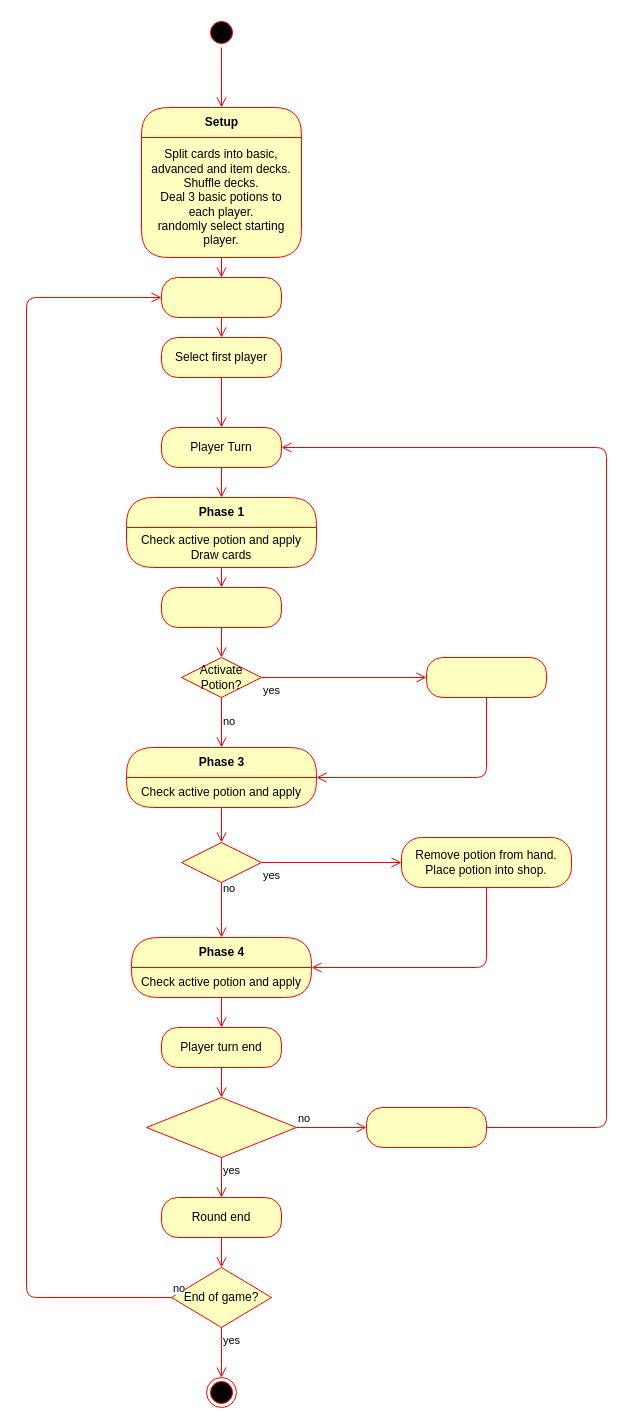
Some shapes in this 634 by 1425 pixel diagram are drawn without their labels. The centre of each missing label's shape, as x and y in pixels:
"All players had turn?" belongs at point (221, 1127).
"Phase 2" belongs at point (221, 607).
"Round Start" belongs at point (221, 297).
"Select next player" belongs at point (426, 1127).
"Set potion active" belongs at point (486, 677).
"Stock Shop?" belongs at point (221, 862).
